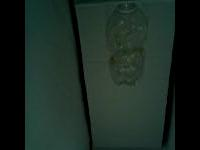bottle: (107, 1, 149, 86)
